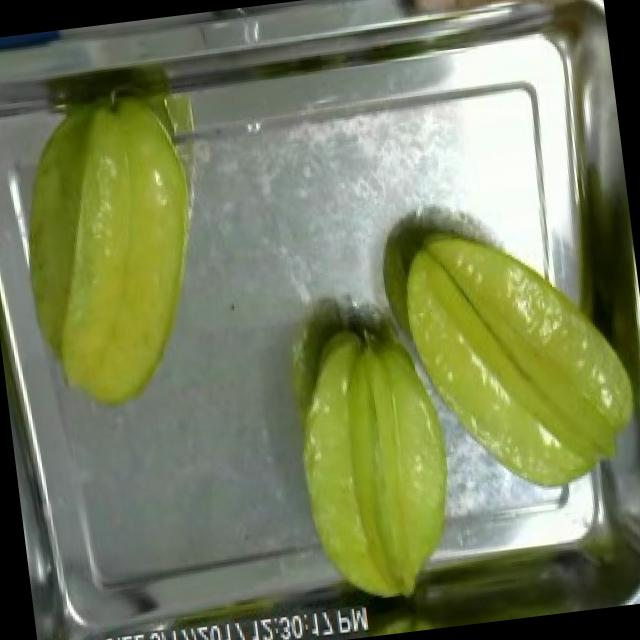fruit: (377, 198, 640, 521), (0, 66, 227, 428), (268, 304, 483, 620), (392, 0, 606, 50)
